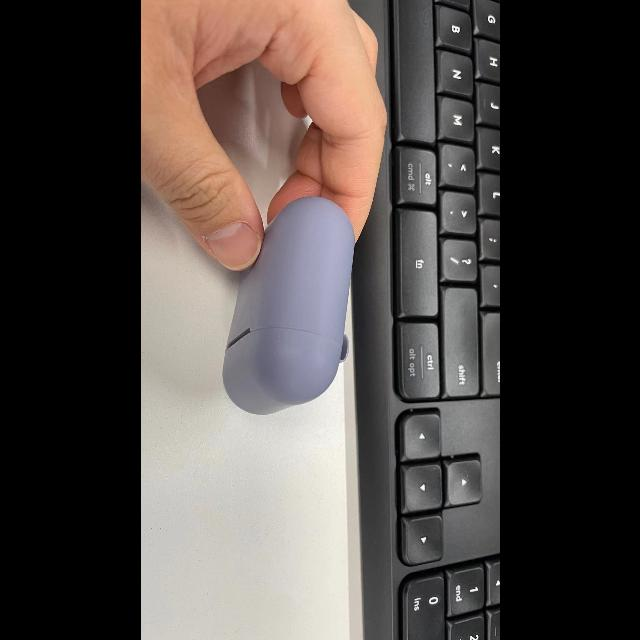airpods: (222, 198, 353, 416)
